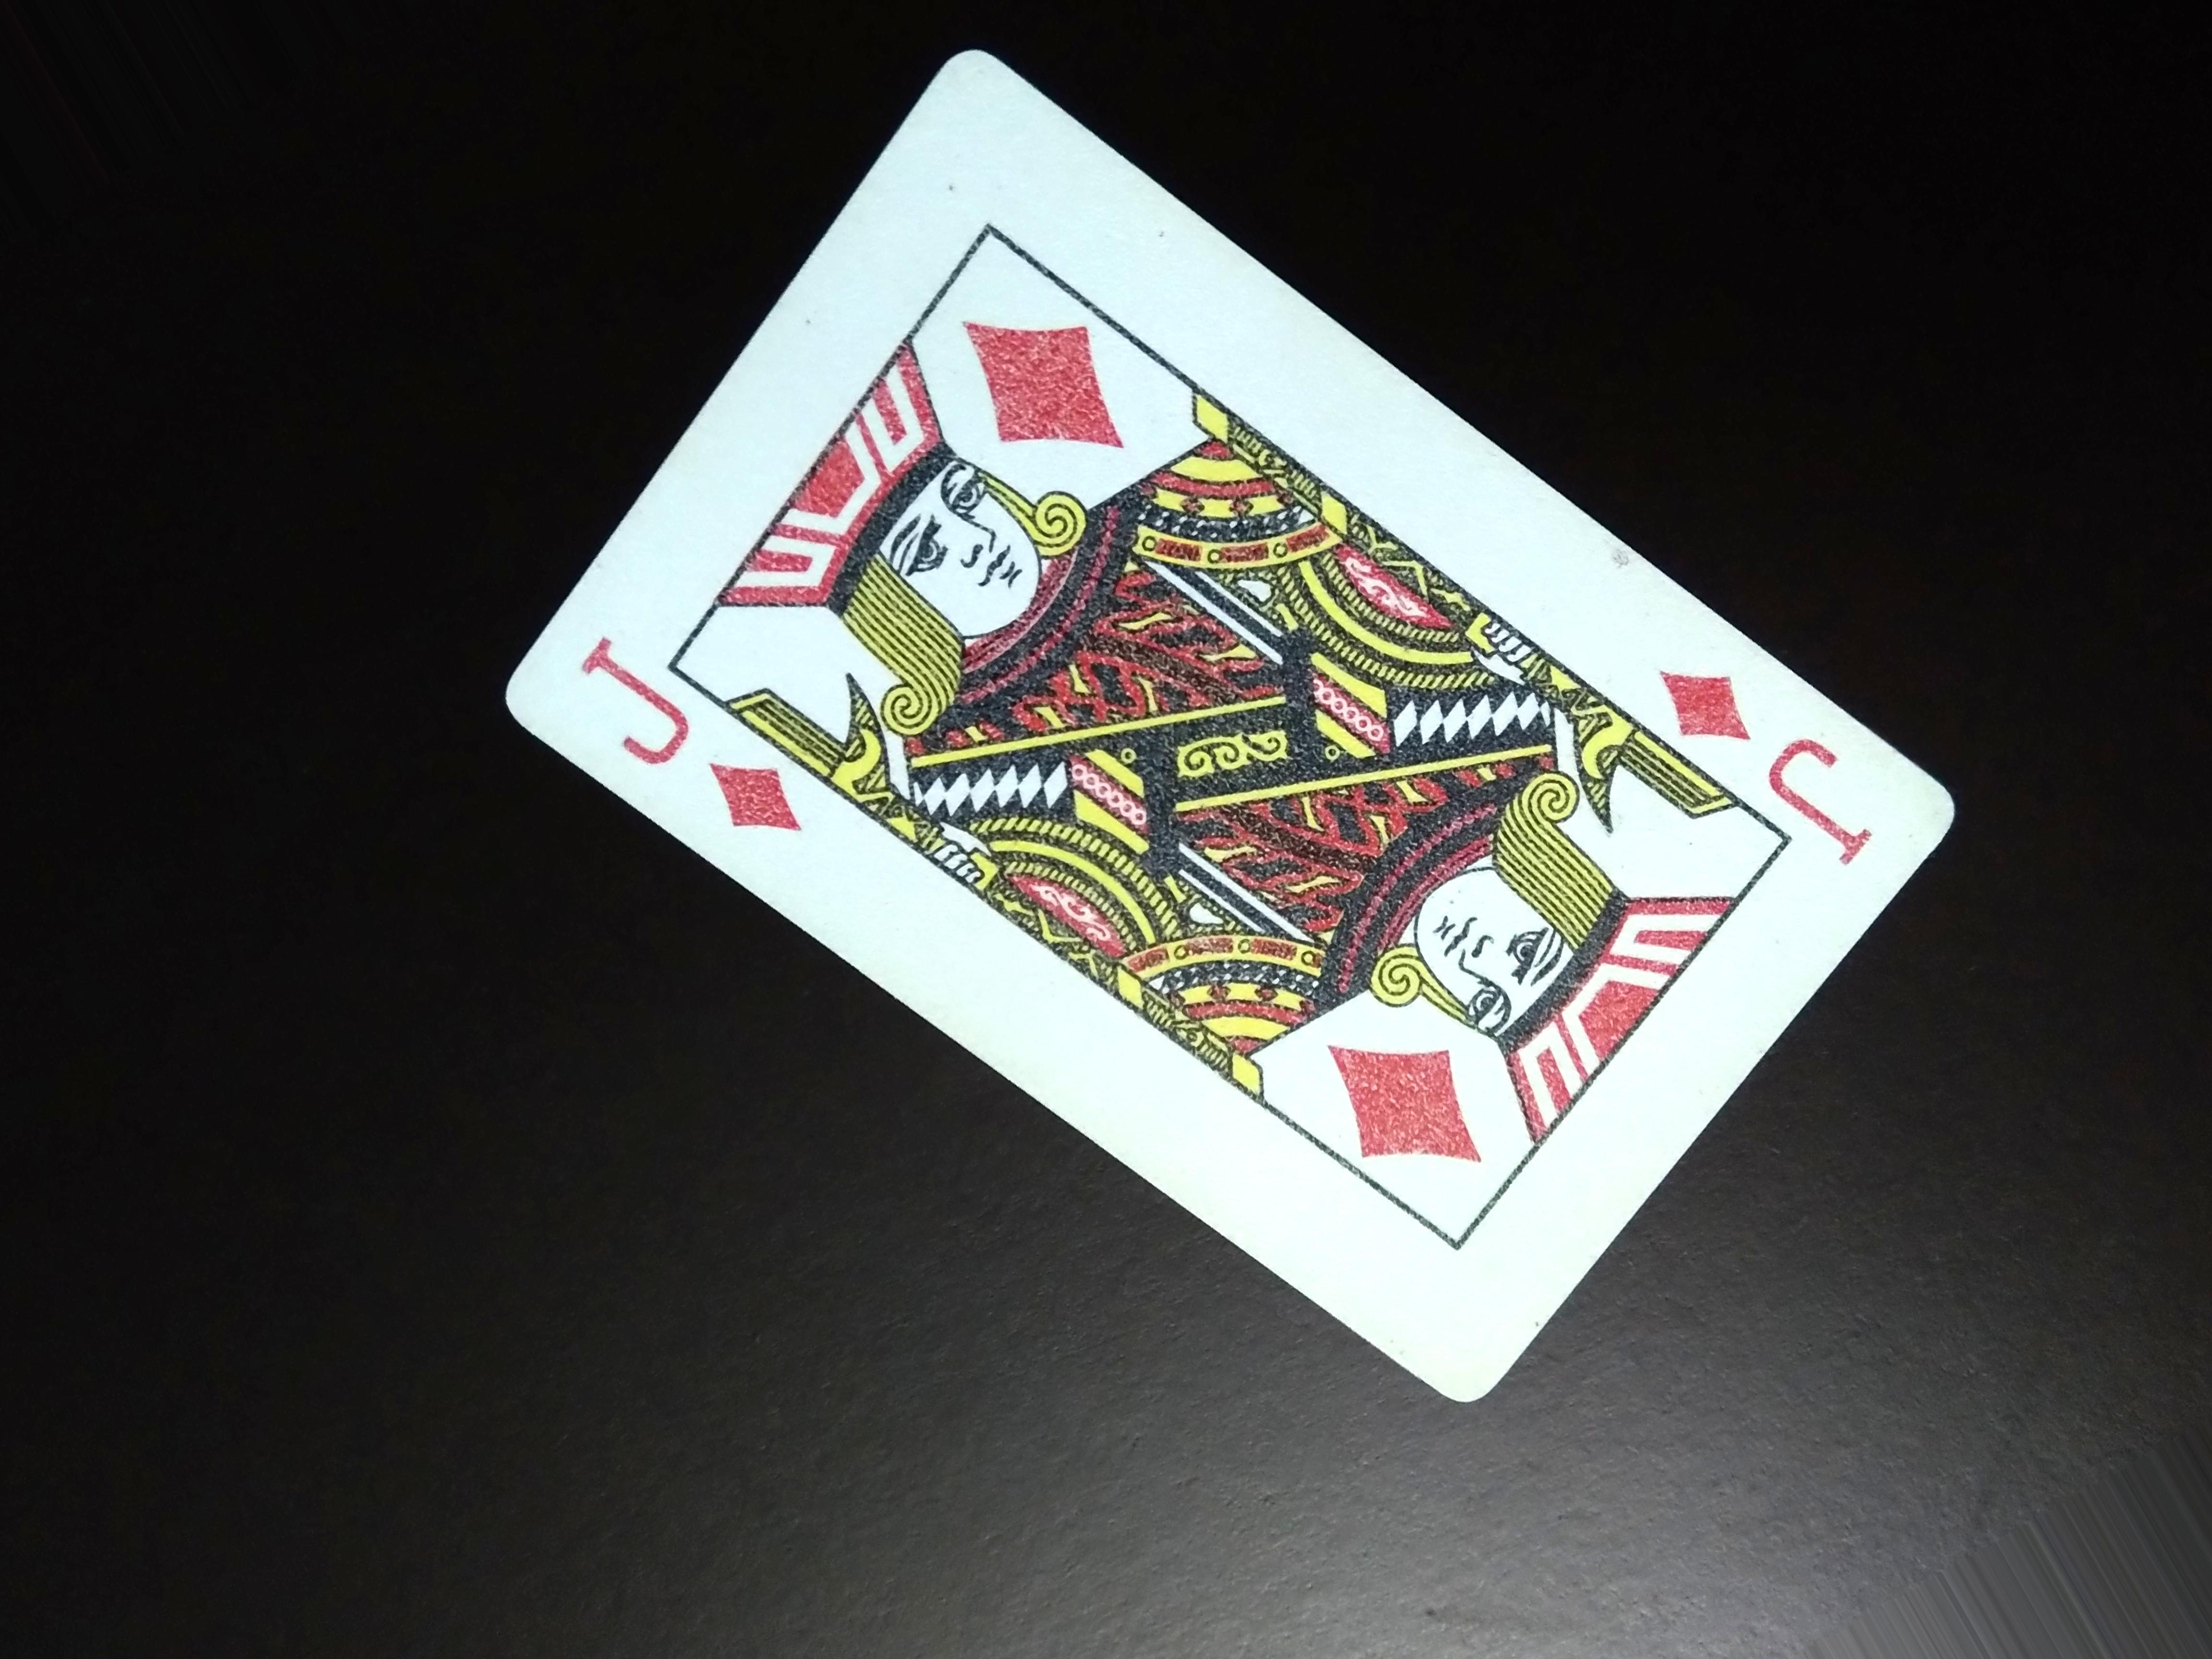JD: (573, 629, 789, 850)
